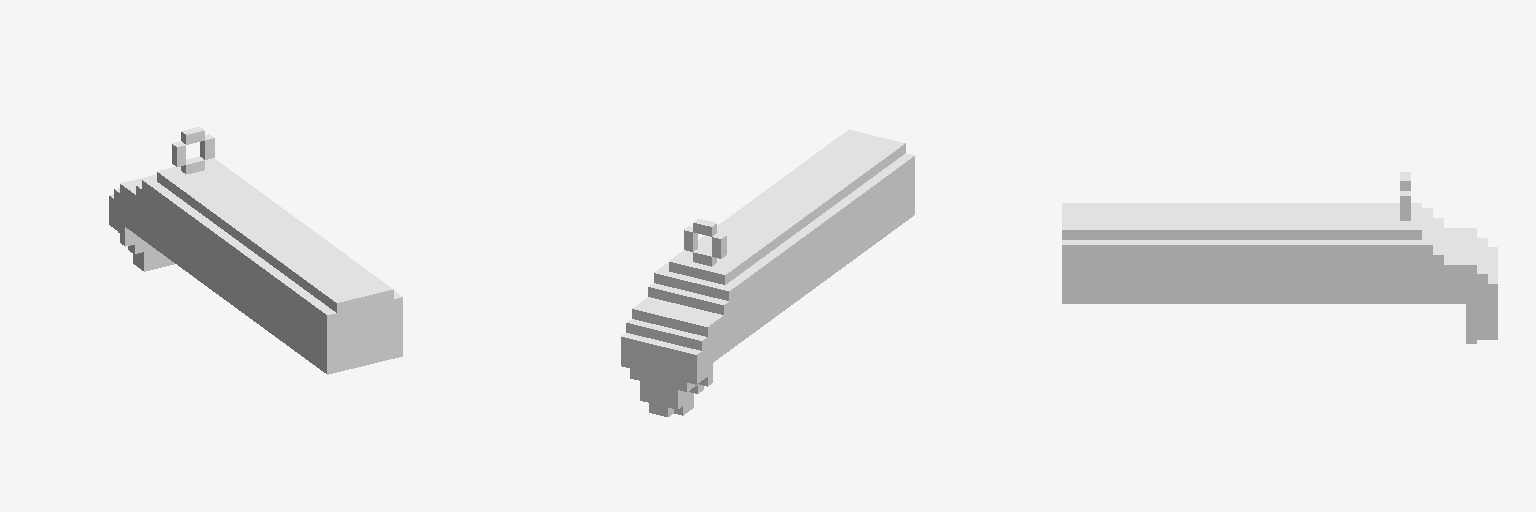
File: shoot.obj
3 renders of one model, left to right at view 1: azimuth 30°, elevation 25°; view 2: azimuth 150°, elevation 25°; view 3: azimuth 270°, elevation 25°, orthographic.
Parts seen in each view (by area): view 1: object 1; view 2: object 1; view 3: object 1.
Boxes of the visible parts, <box> form: object 1: <box>109,127,402,374</box>; object 1: <box>621,130,914,416</box>; object 1: <box>1062,172,1497,343</box>.
Size of the model in its own units: 0.8 by 1.6 by 4.